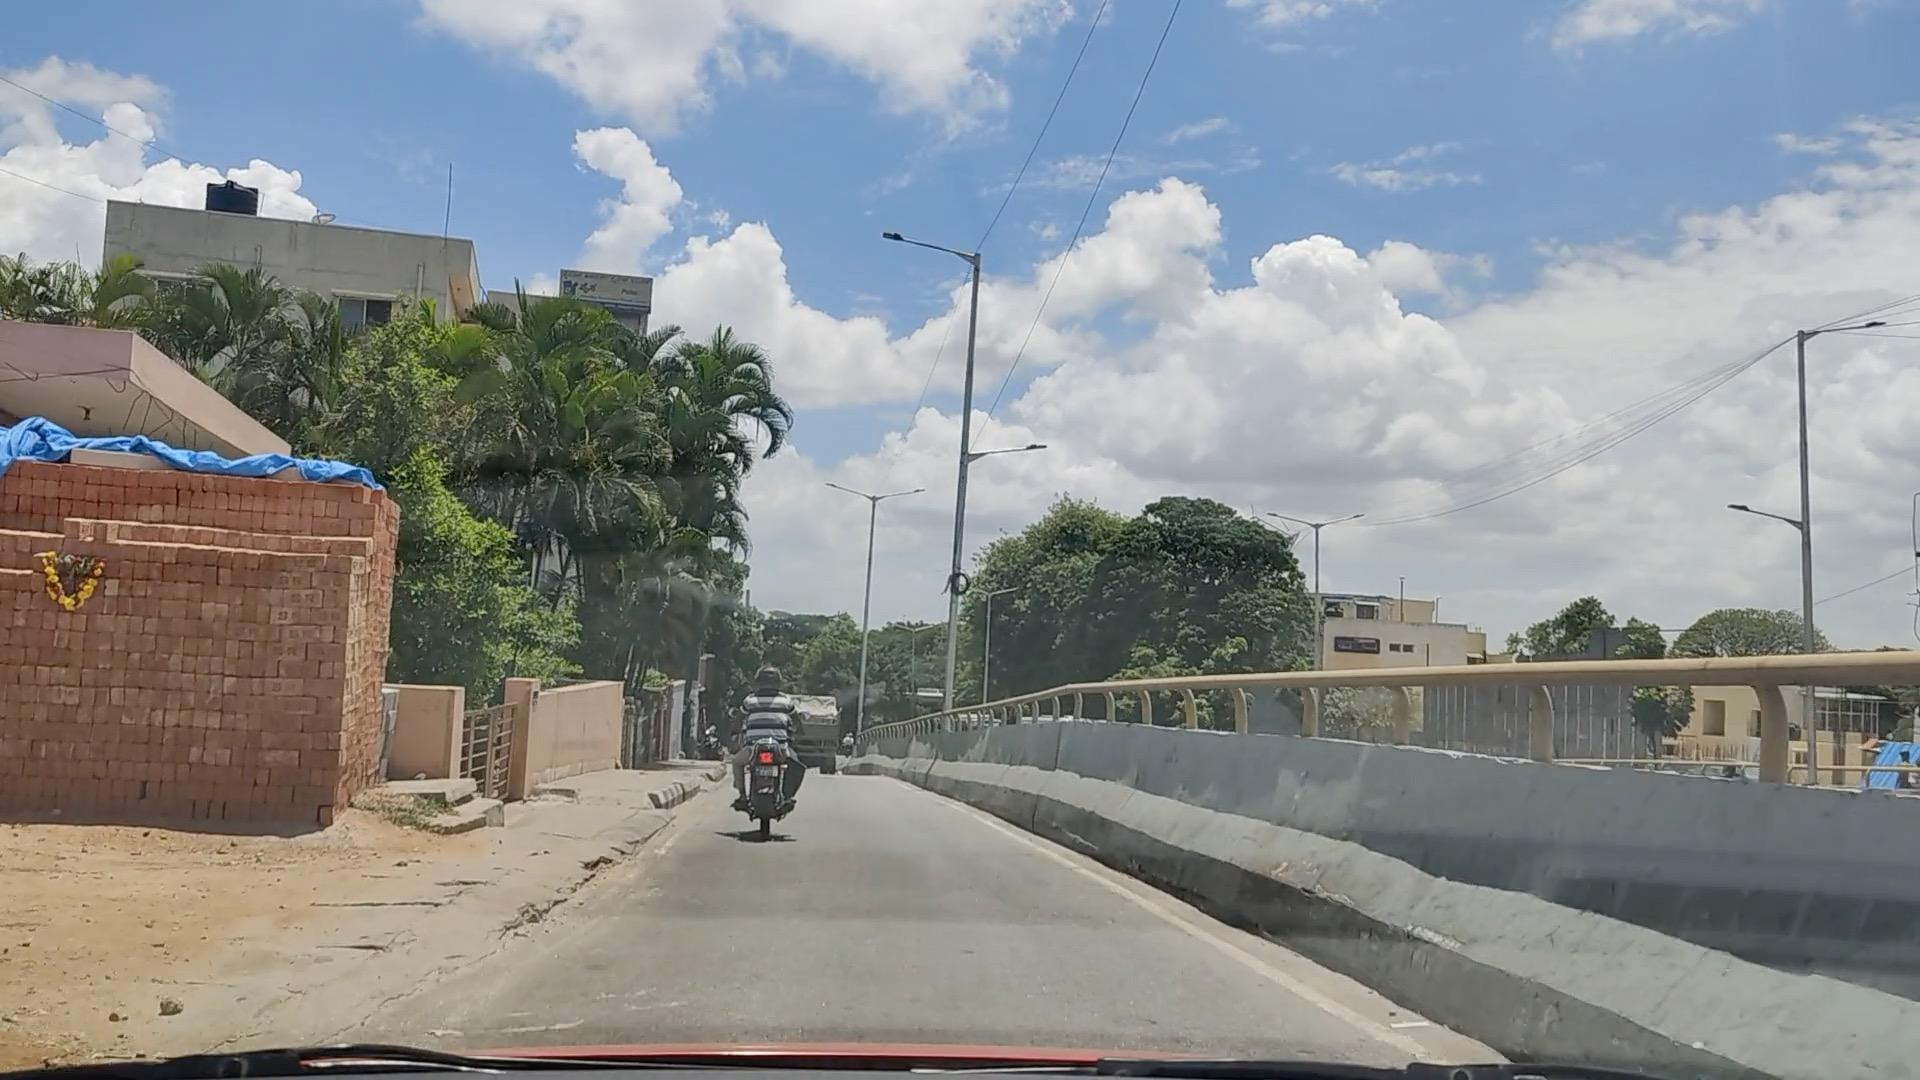RoadDamages: (508, 830, 668, 934)
